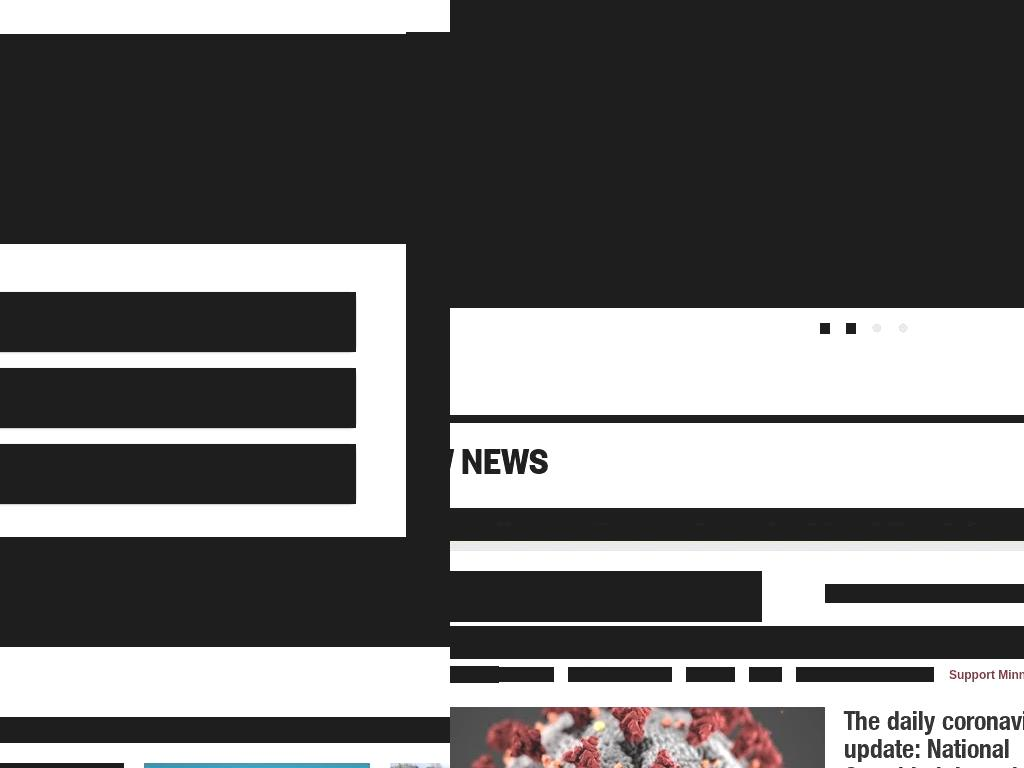button: (450, 707, 825, 768), (0, 292, 356, 352), (0, 368, 356, 428), (0, 444, 356, 504), (450, 571, 762, 622), (450, 288, 1024, 308), (472, 626, 600, 659), (839, 626, 957, 659), (738, 626, 840, 659), (658, 626, 739, 659), (956, 626, 1024, 659), (599, 626, 659, 659), (450, 626, 473, 659)
heading: (0, 34, 450, 244), (450, 0, 788, 83), (450, 439, 1024, 480), (0, 717, 450, 743), (825, 584, 1024, 603)
image: (450, 0, 1024, 304), (676, 0, 1024, 307), (0, 537, 450, 647), (450, 707, 825, 768), (450, 571, 762, 618), (709, 511, 1019, 537), (450, 511, 678, 537), (316, 310, 340, 334), (316, 386, 340, 410), (316, 462, 340, 486), (820, 323, 830, 334), (846, 323, 856, 334), (872, 323, 882, 334), (898, 323, 908, 334)
link: (450, 32, 676, 83), (796, 667, 934, 682), (568, 667, 672, 682), (948, 667, 1024, 682), (498, 667, 554, 682), (686, 667, 735, 682), (749, 667, 782, 682)
text: (0, 384, 182, 412), (0, 460, 117, 488), (0, 308, 109, 336), (450, 666, 499, 683)
